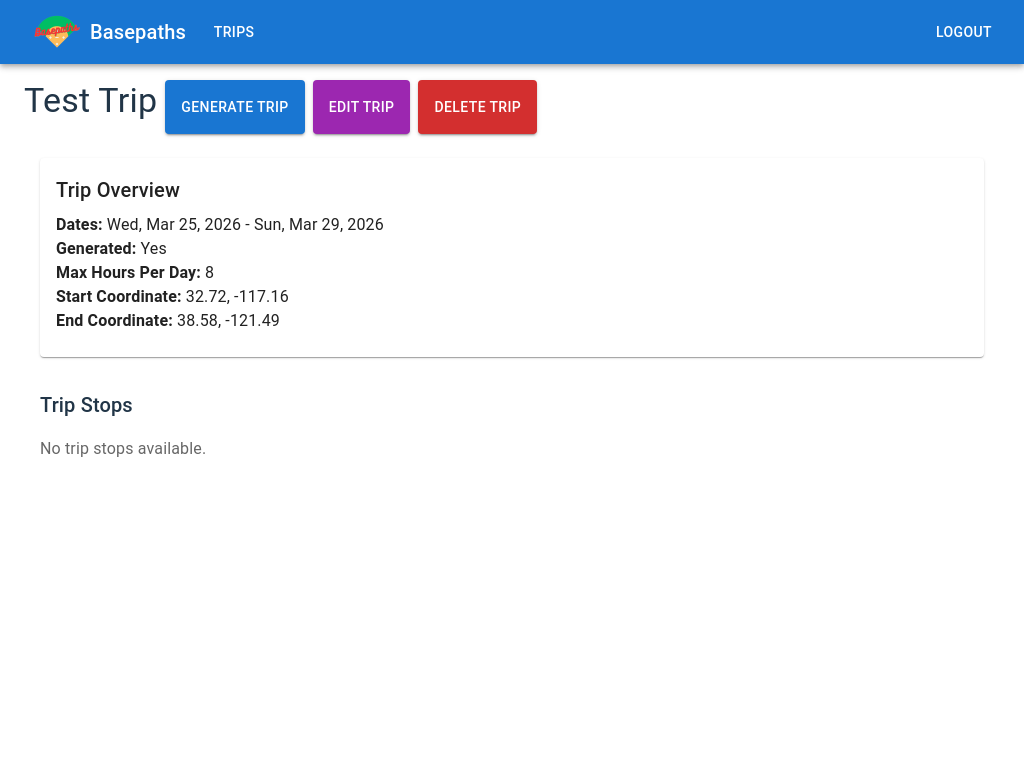
Test case: View Trip Frontend Unit Tests › FUT20 - Open Generate Form
expect the heading "Test Trip" is shown: met, box [24,80,157,122]
expect the heading "Trip Overview" is shown: met, box [56,178,180,202]
Click the button "Generate Trip": (235, 107) [165,80,305,134]
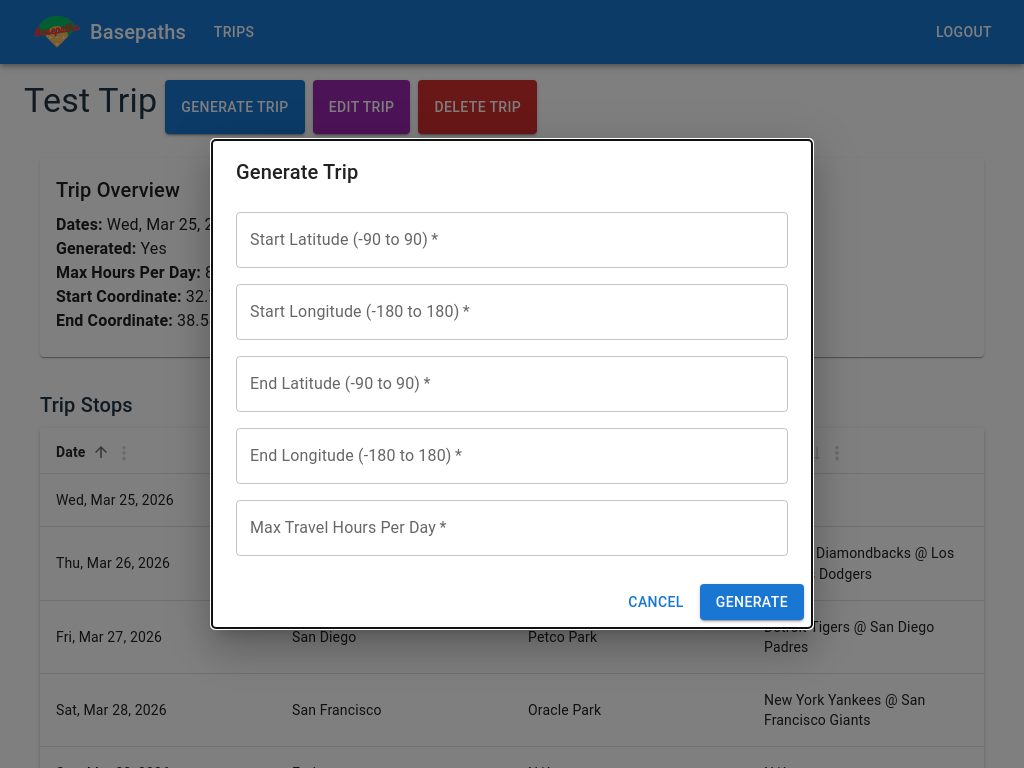
expect the dialog is shown: met, box [212,140,812,628]
